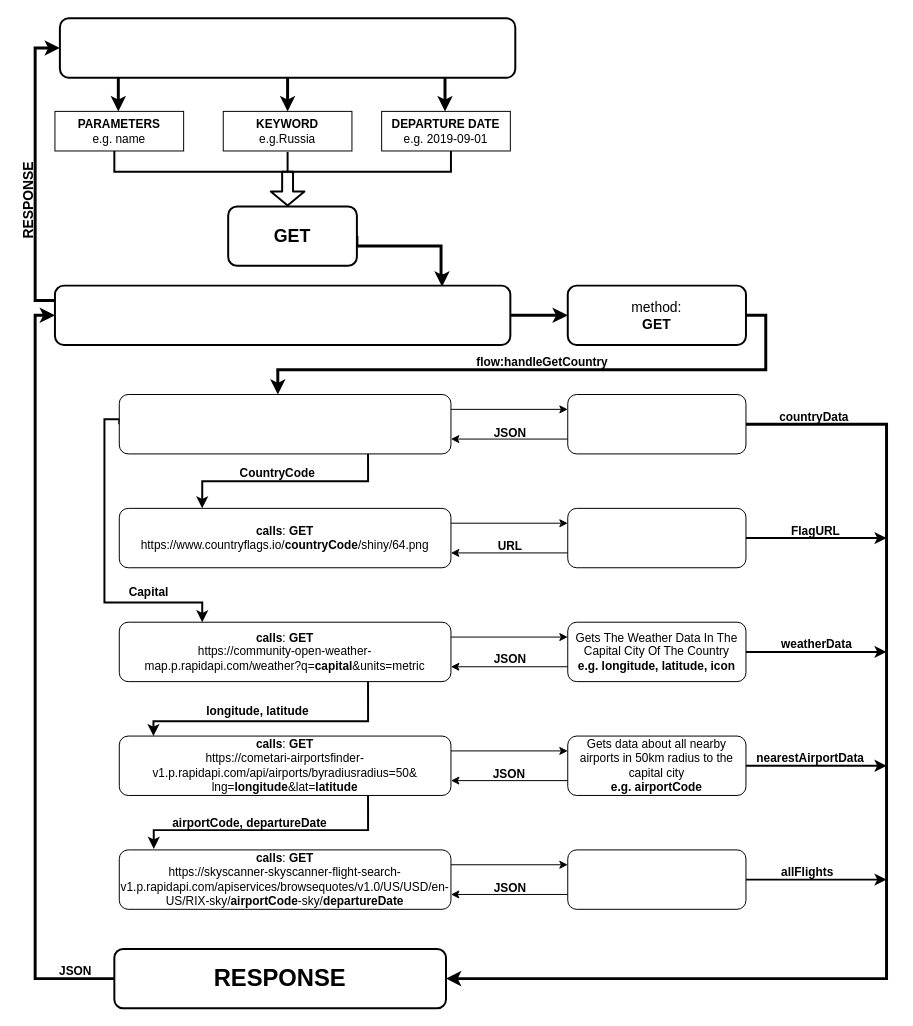
The diagram is 913 pixels wide and 1026 high, and some of its shapes have lost their labels. The centre of each missing label's shape, as x and y in pixels:
"calls : GET https://restcountries-v1.p.rapidapi.com/ parameters / keyword" goes at (284,424).
"Data about ( keyword ) country e.g.. CountryCode" goes at (656,424).
"Gets data about flights from Riga to the searched (keyword) country" goes at (656,879).
"Gets the URL of the flag of the country" goes at (656,537).
"USER /countries" goes at (287,47).
"webMethods" goes at (282,315).
